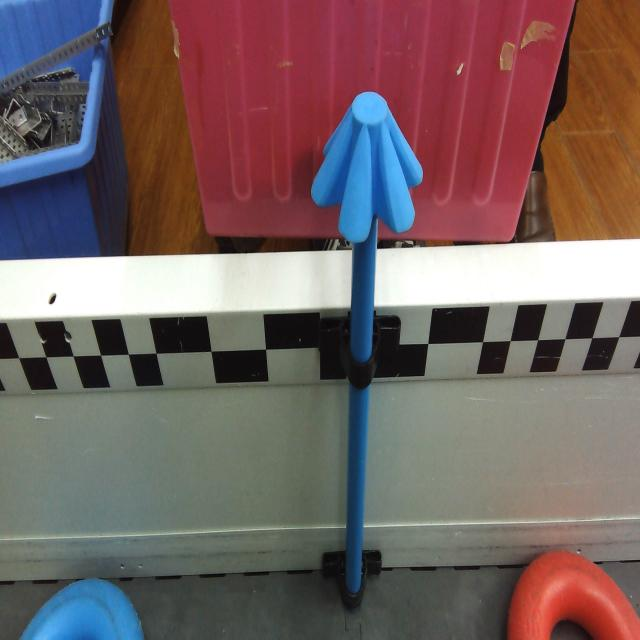Blue-Ring: (18, 573, 144, 640)
Red-Ring: (509, 548, 640, 640)
zblue-Stake-Head: (312, 89, 424, 243)
